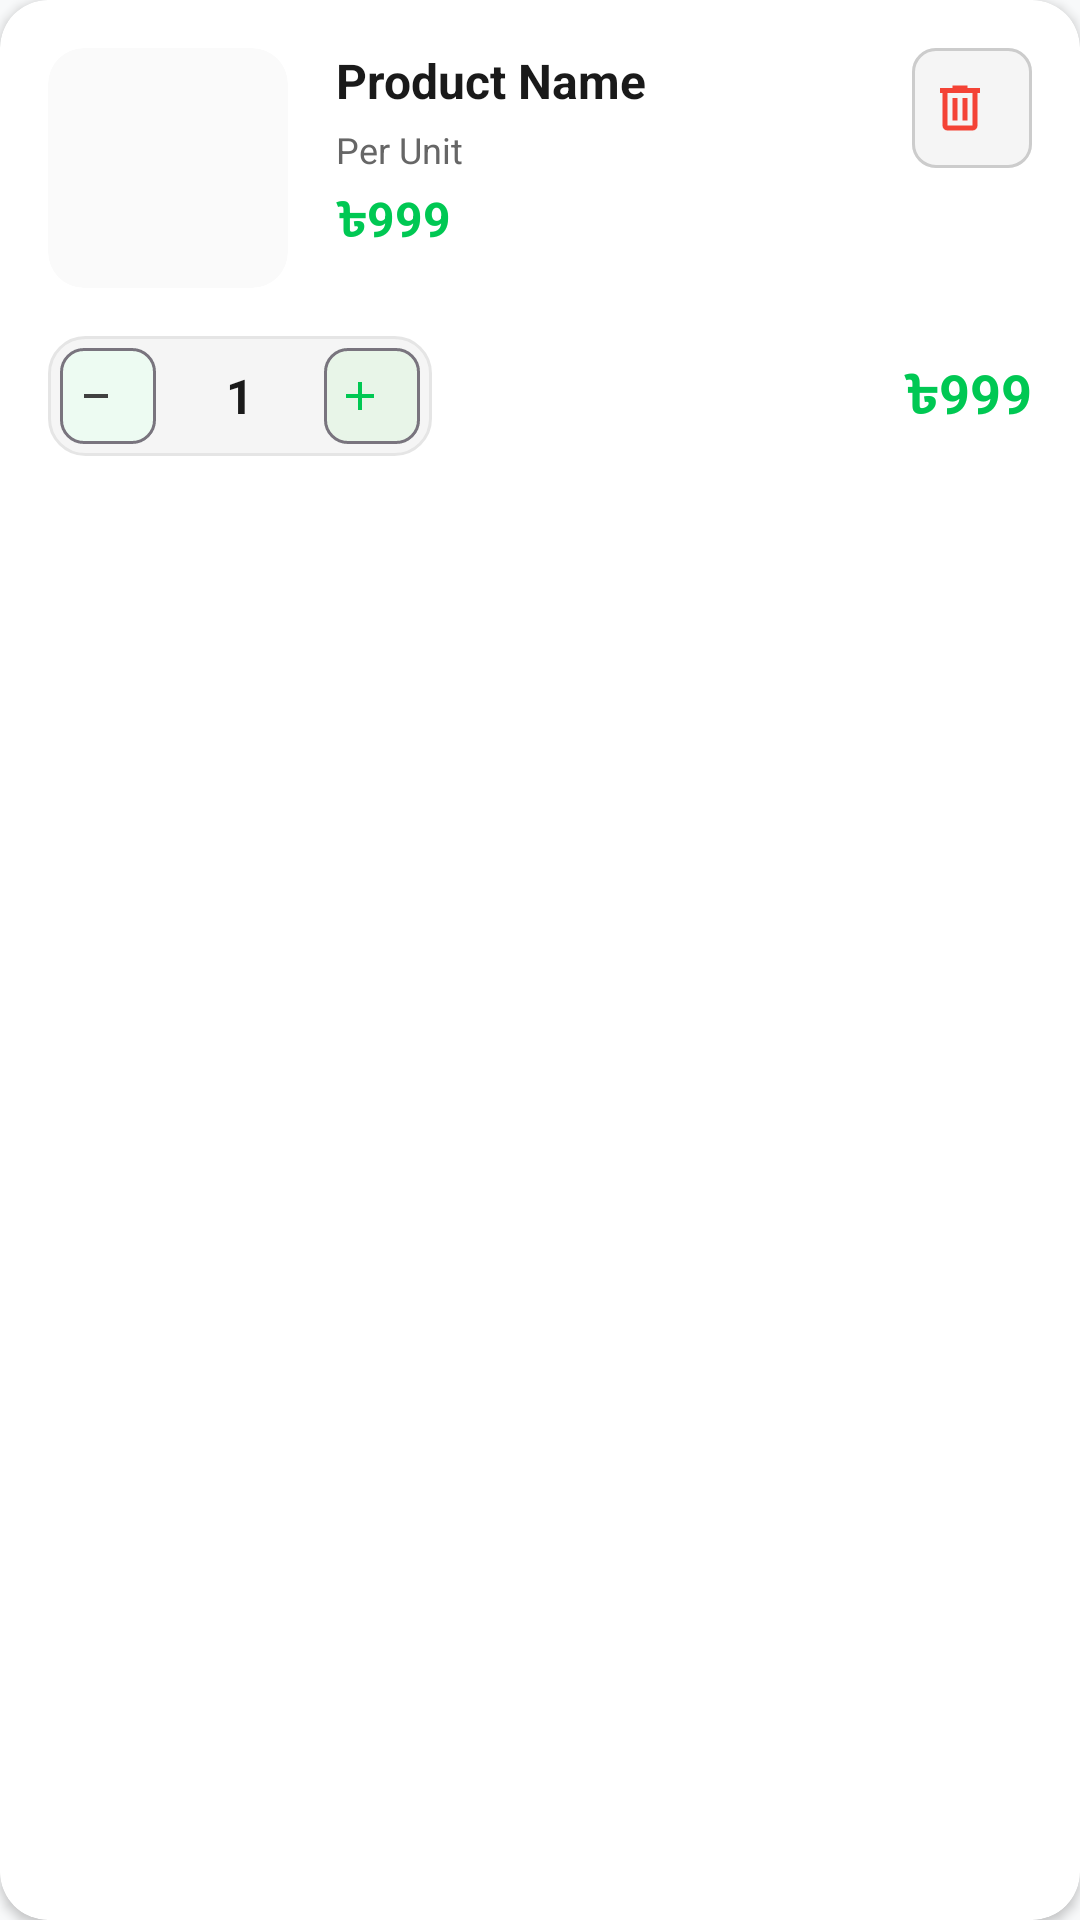

Screen size 1080px×1920px. Icon name, then its center in pixels as (x=x, y=y):
add: (x=372, y=396)
delete: (x=972, y=108)
remove: (x=108, y=396)
